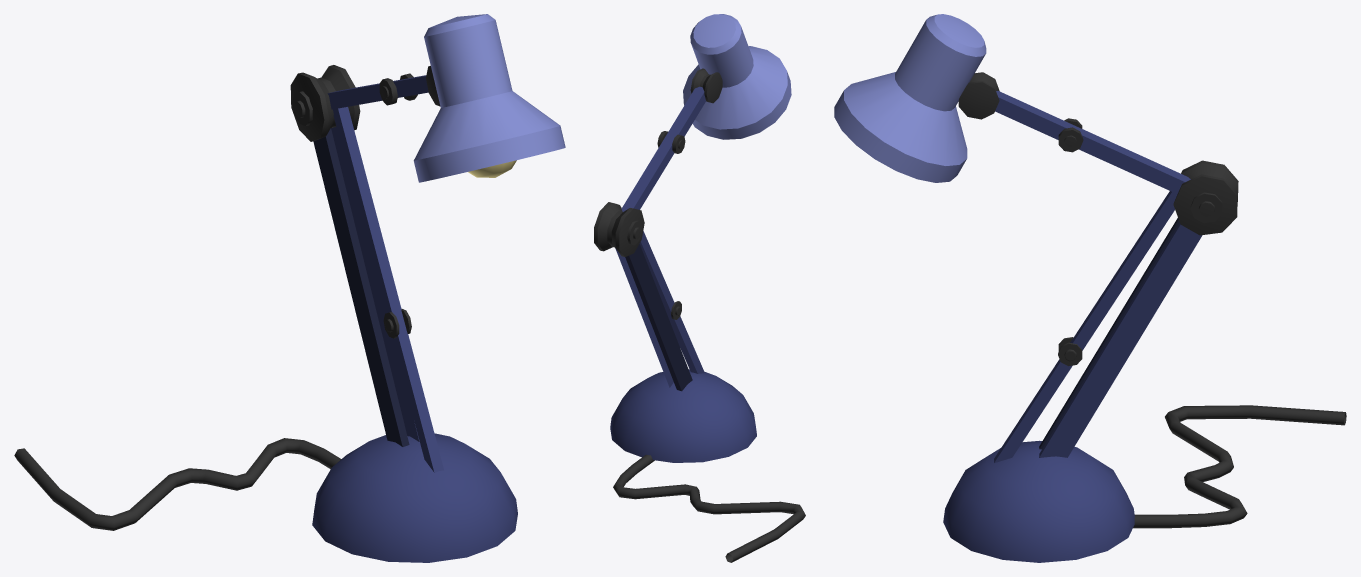
Rendered from lamp_desk.FBX.
The picture shows the model from 3 angles, left to right: view 1: azimuth 30°, elevation 25°; view 2: azimuth 150°, elevation 25°; view 3: azimuth 270°, elevation 25°; orthographic projection. The views are drawn at different scales.
Visible parts, largest first — view 1: lamp; view 2: lamp; view 3: lamp.
Boxes of the visible parts, x1,y1,x2,y2 form: lamp: (14,14,565,562); lamp: (594,14,805,562); lamp: (834,14,1346,562).
Bounding box in the file's own units: 47.2 × 72.78 × 66.47.
